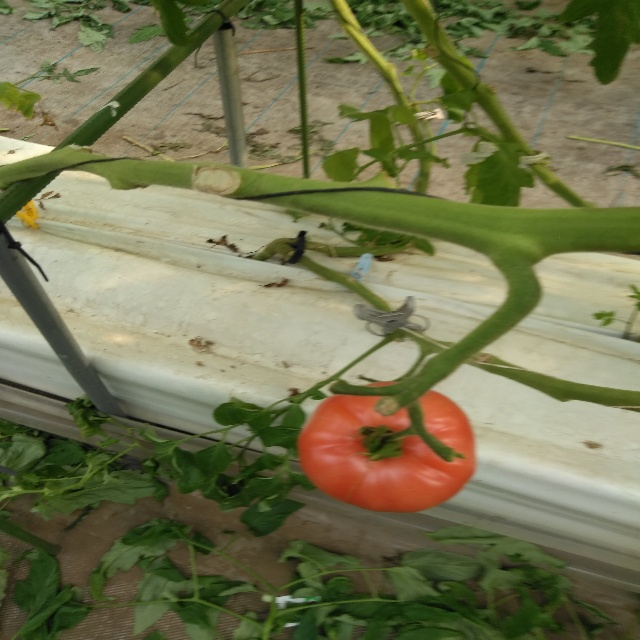b_fully_ripened: (298, 381, 476, 512)
